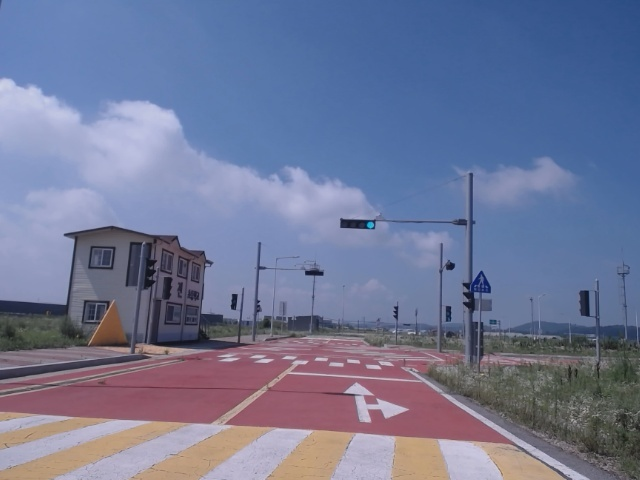straight_green_4: (340, 220, 375, 228)
